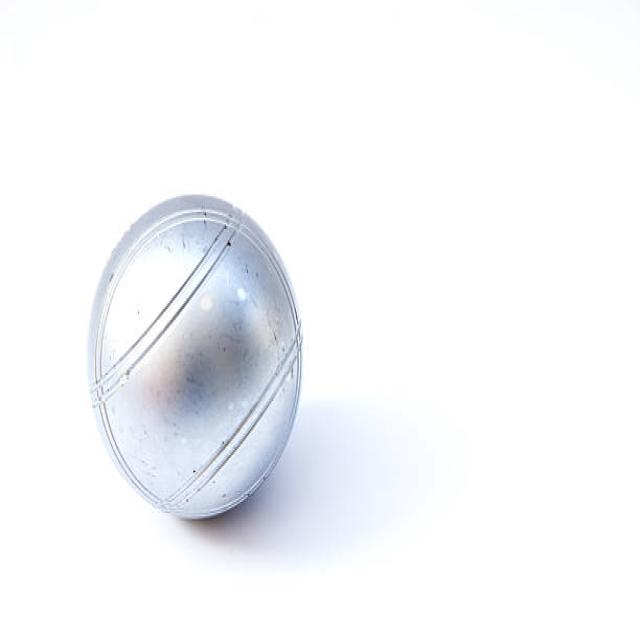petanque: (78, 188, 314, 539)
